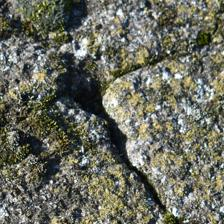Crack: (27, 32, 147, 184)
